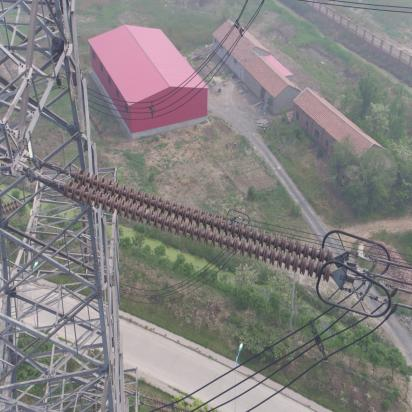insulator: (48, 165, 340, 286)
